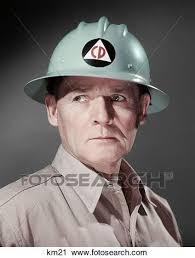Person_wearing_helmet: (22, 18, 168, 117)
